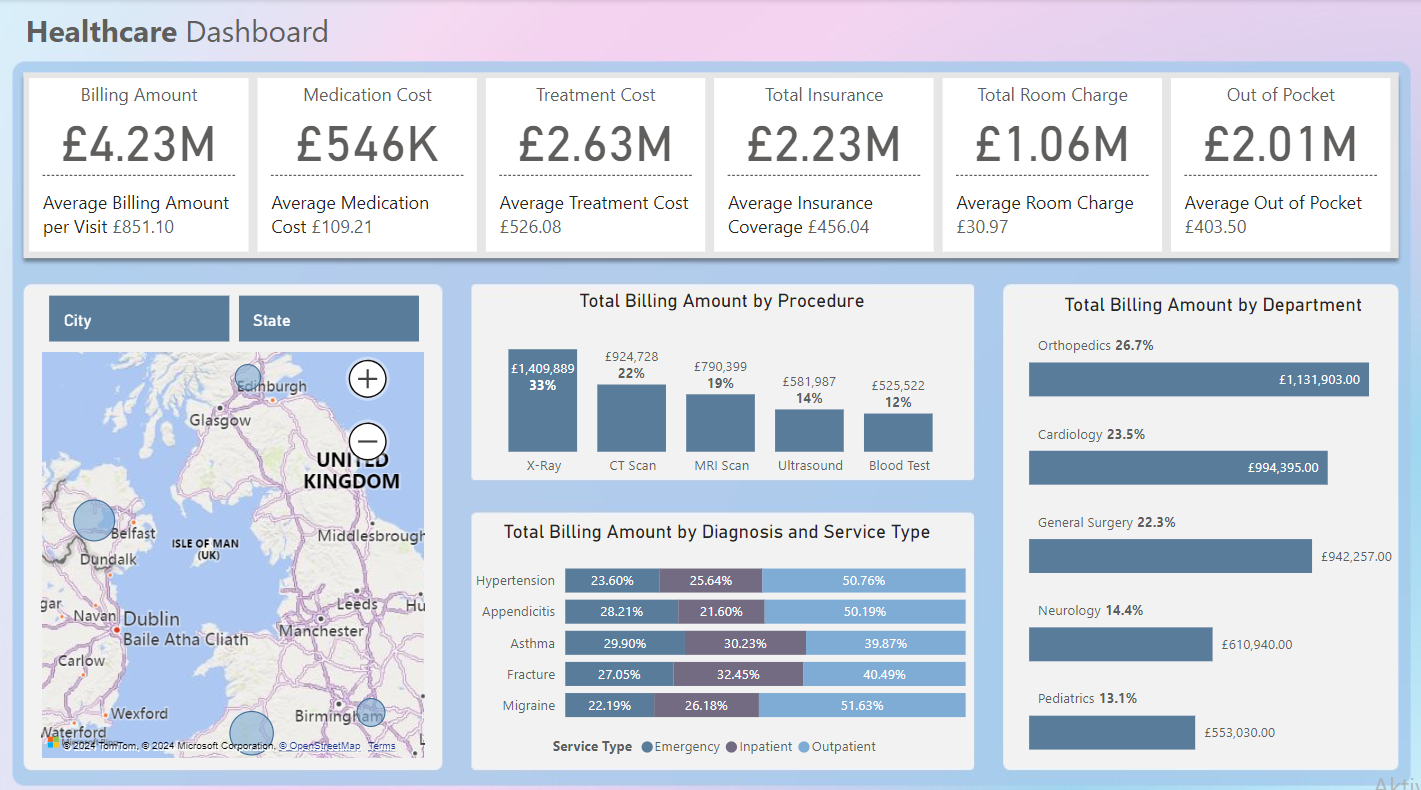

The dashboard page shown, as its layout file describes it:
{"tool":"powerbi","page":{"name":"Page 1","canvas":[1280,720],"ordinal":0},"visuals":[{"type":"cardVisual","fields":{"Data":["DAX Calculations.Total Billing Amount","DAX Calculations.Total Medication Cost","DAX Calculations.Total Treatment Cost","DAX Calculations.Total Insurance Coverage","DAX Calculations.Total Room Charge","DAX Calculations.Out of Pocket"]},"box":[25.7,65.9,1228.3,165.5],"z":0},{"type":"map","fields":{"Category":["cities.State","cities.City"],"Size":["DAX Calculations.Total Billing Amount"]},"box":[37.2,310.5,351.2,373.3],"z":1000},{"type":"advancedSlicerVisual","fields":{"Values":["Patient Location.Patient Location"]},"box":[43.3,260.5,340.7,51.2],"z":2000},{"type":"clusteredColumnChart","fields":{"Category":["procedures.Procedure"],"Y":["DAX Calculations.Total Billing Amount"]},"box":[422.1,259.5,454.7,175.6],"z":3000},{"type":"hundredPercentStackedBarChart","fields":{"Y":["DAX Calculations.Total Billing Amount"],"Category":["diagnoses.Diagnosis"],"Series":["visits.Service Type"]},"box":[417.4,465.6,454.7,220.9],"z":4000},{"type":"clusteredBarChart","title":"Total Billing Amount by Department","fields":{"Category":["departments.Department"],"Y":["DAX Calculations.Blank Measure","DAX Calculations.Total Billing Amount"]},"box":[918.6,262.8,338.4,415.8],"z":5000},{"type":"textbox","box":[22.3,4.5,299.3,67.4],"z":6000}]}

Visuals, with their boxes in screenshot pixels (x1, y1, x2, y2), scaled from the page's 1280x720 canvas onto the 1421x790 screenshot:
cardVisual - DAX Calculations.Total Billing Amount x DAX Calculations.Total Medication Cost: BBox(29, 72, 1392, 254)
map - cities.State x cities.City: BBox(41, 341, 431, 750)
advancedSlicerVisual - Patient Location.Patient Location: BBox(48, 286, 426, 342)
clusteredColumnChart - procedures.Procedure x DAX Calculations.Total Billing Amount: BBox(469, 285, 973, 477)
hundredPercentStackedBarChart - DAX Calculations.Total Billing Amount x diagnoses.Diagnosis: BBox(463, 511, 968, 753)
"Total Billing Amount by Department" clusteredBarChart: BBox(1020, 288, 1395, 745)
textbox: BBox(25, 5, 357, 79)
